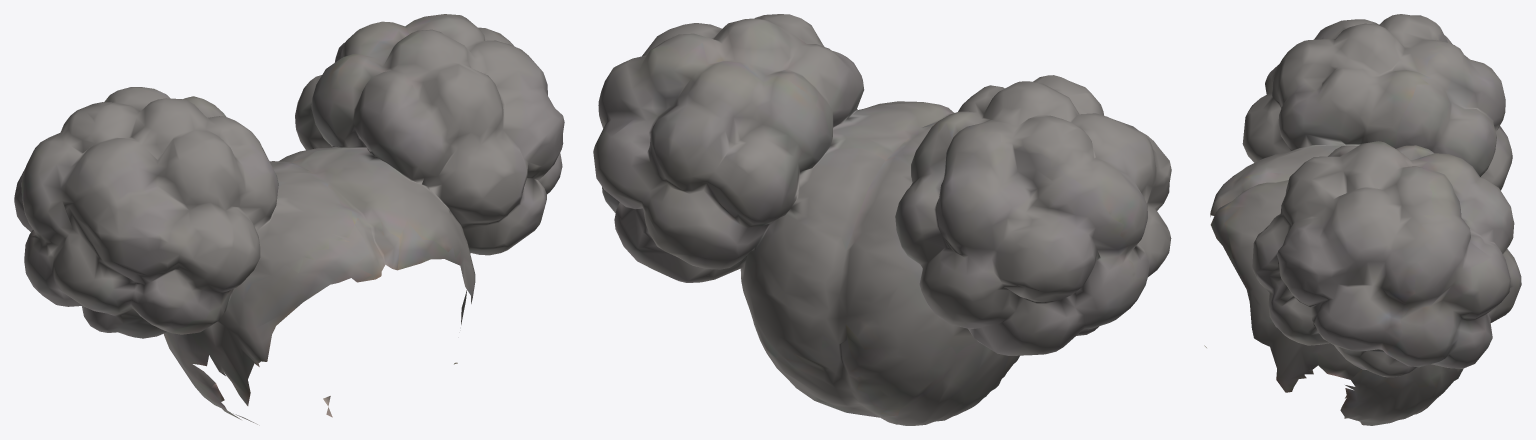
Rendered from hair-f-afro-puffs.glb.
3 renders of one model, left to right at view 1: azimuth 30°, elevation 25°; view 2: azimuth 150°, elevation 25°; view 3: azimuth 270°, elevation 25°, orthographic. The views are drawn at different scales.
Parts seen in each view (by area): view 1: hair-f-afro-puffs; view 2: hair-f-afro-puffs; view 3: hair-f-afro-puffs.
Boxes of the visible parts, <box> form: hair-f-afro-puffs: <box>14,14,564,425</box>; hair-f-afro-puffs: <box>593,14,1171,425</box>; hair-f-afro-puffs: <box>1204,14,1521,425</box>.
Size of the model in its own units: 1.77 by 1.16 by 1.04.
Materials: 1 (1 with a texture image).
